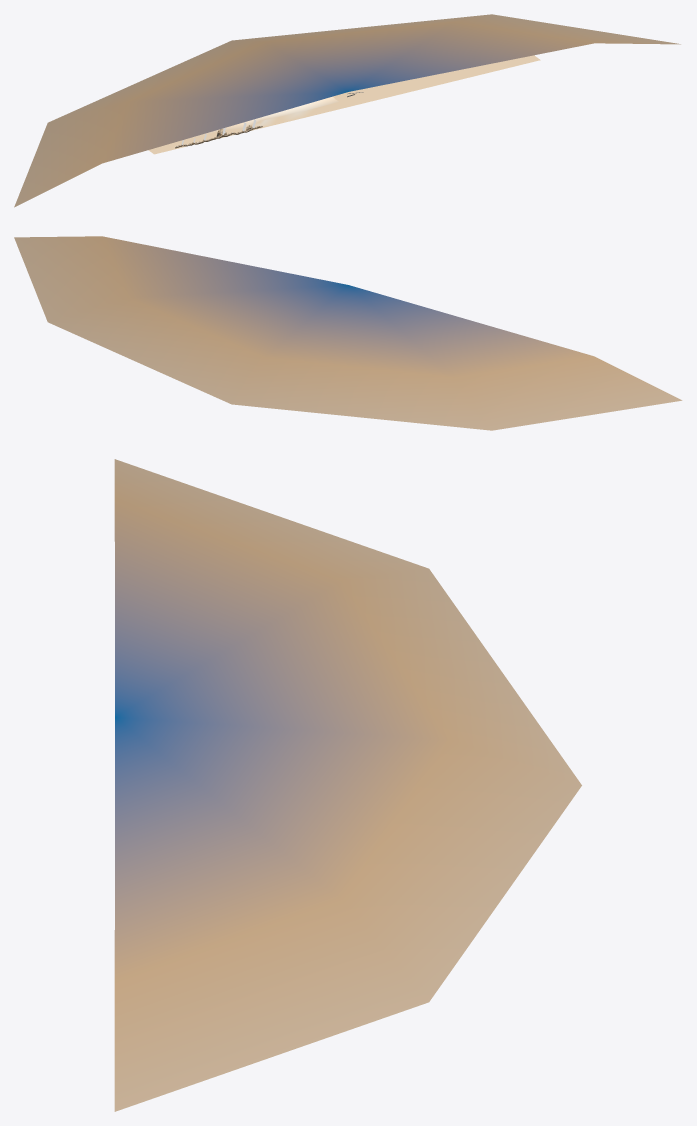
Rendered from Desert 11.fbx.
3 views of the same model, one above another, from view 1: azimuth 30°, elevation 25°; view 2: azimuth 150°, elevation 25°; view 3: azimuth 270°, elevation 25° (orthographic). The views are drawn at different scales.
Parts seen in each view (by area): view 1: Light_01, Bg; view 2: Light_01; view 3: Light_01.
Boxes of the visible parts, x1=… form: Light_01: x1=14, y1=14, x2=680, y2=207; Bg: x1=148, y1=55, x2=540, y2=154; Light_01: x1=14, y1=236, x2=682, y2=430; Light_01: x1=114, y1=459, x2=581, y2=1111.
Bounding box in the file's own units: 983996 × 47831 × 297667.
